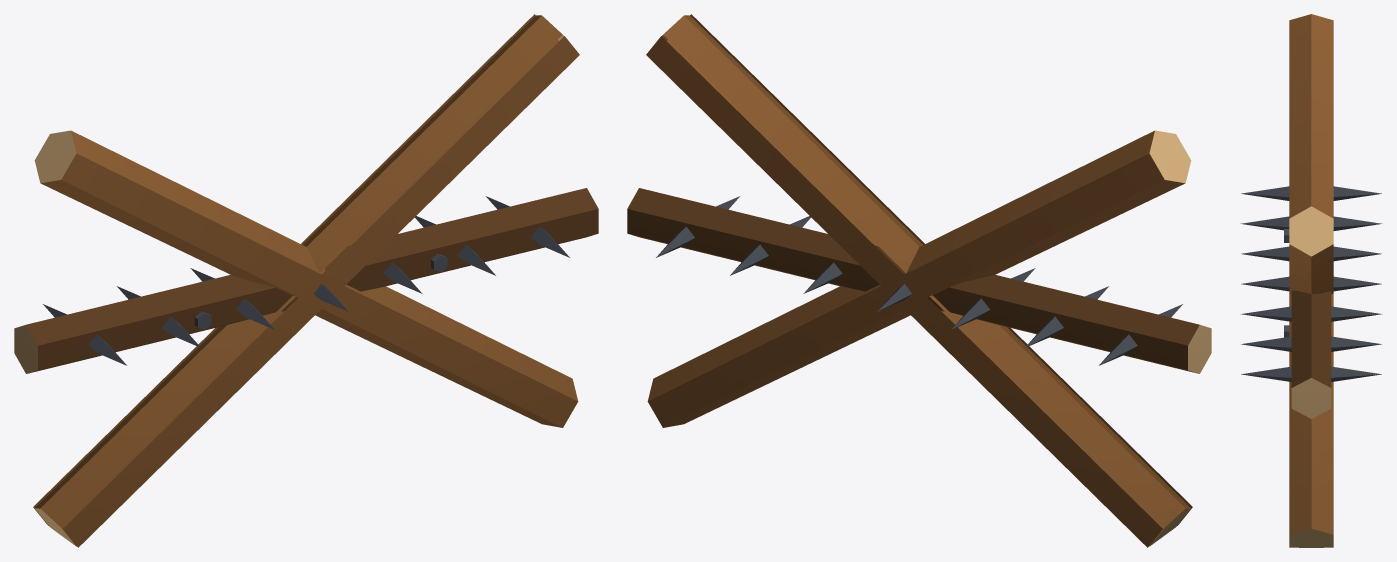
The model's file is barricade.glb.
The picture shows the model from 3 angles, left to right: view 1: azimuth 30°, elevation 25°; view 2: azimuth 150°, elevation 25°; view 3: azimuth 270°, elevation 25°; orthographic projection. The views are drawn at different scales.
Visible parts, largest first — view 1: barricade; view 2: barricade; view 3: barricade.
Boxes of the visible parts, x1,y1,x2,y2 form: barricade: [14, 14, 598, 547]; barricade: [627, 14, 1211, 547]; barricade: [1240, 14, 1382, 547].
Bounding box in the file's own units: 1.9 × 1.32 × 0.5.
